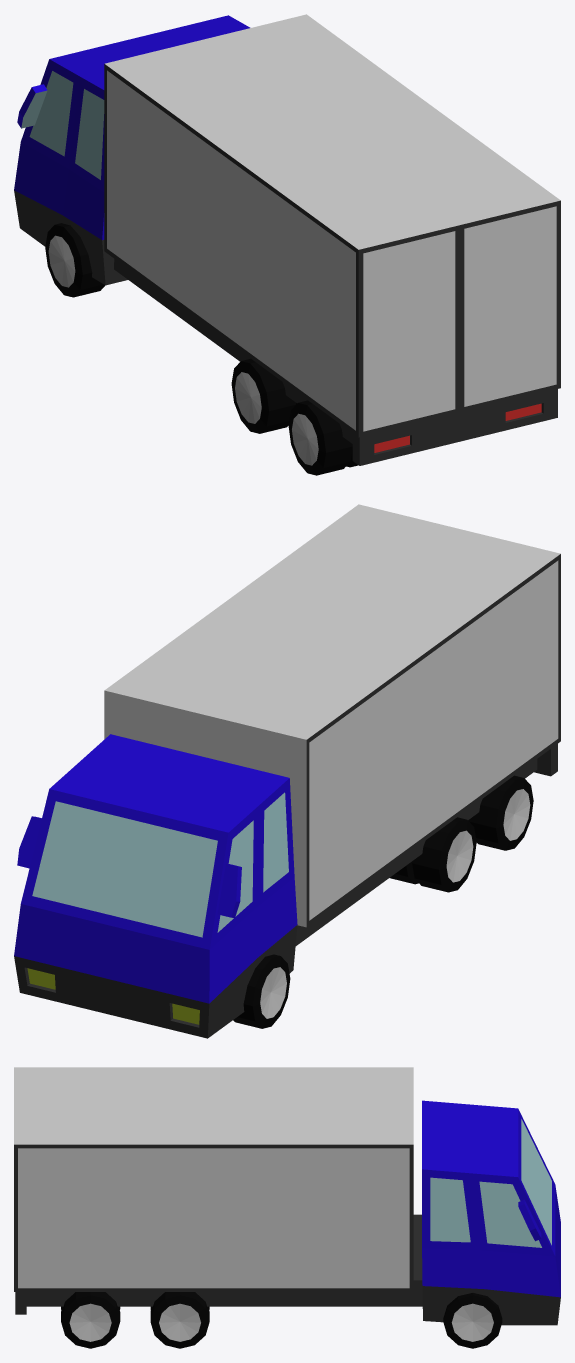
File: CarroLongo.fbx
3 renders of one model, top to bottom at view 1: azimuth 30°, elevation 25°; view 2: azimuth 150°, elevation 25°; view 3: azimuth 270°, elevation 25°, orthographic. The views are drawn at different scales.
Parts seen in each view (by area): view 1: Cube; view 2: Cube; view 3: Cube.
Boxes of the visible parts, left/top/right/bottom form: Cube: left=14, top=14, right=560, bottom=475; Cube: left=14, top=504, right=560, bottom=1038; Cube: left=14, top=1067, right=560, bottom=1348.
Size of the model in its own units: 242 by 276 by 673.
